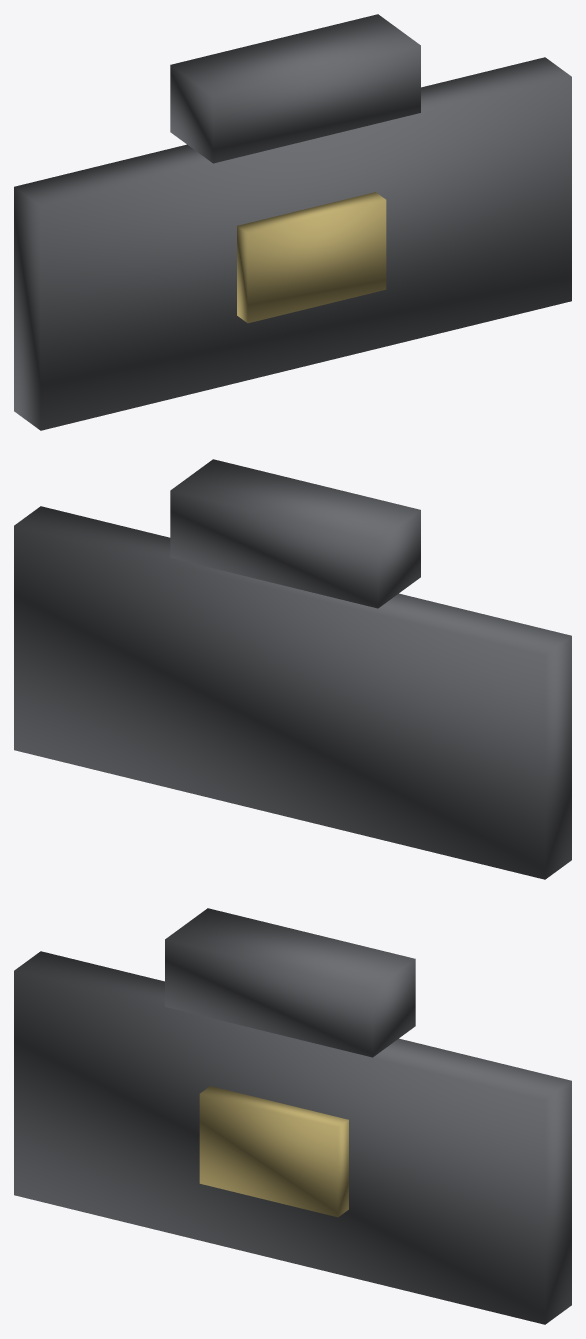
Rendered from floor_indicator_12.glb.
The picture shows the model from 3 angles, top to bottom: view 1: azimuth 30°, elevation 25°; view 2: azimuth 150°, elevation 25°; view 3: azimuth 330°, elevation 25°; orthographic projection.
Parts seen in each view (by area): view 1: world; view 2: world; view 3: world.
Part boxes in pixels (x1,y1,x2,y2): world: [14, 14, 571, 430]; world: [14, 459, 571, 879]; world: [14, 908, 571, 1324].
Size of the model in its own units: 0.5152 by 0.2808 by 0.072.
